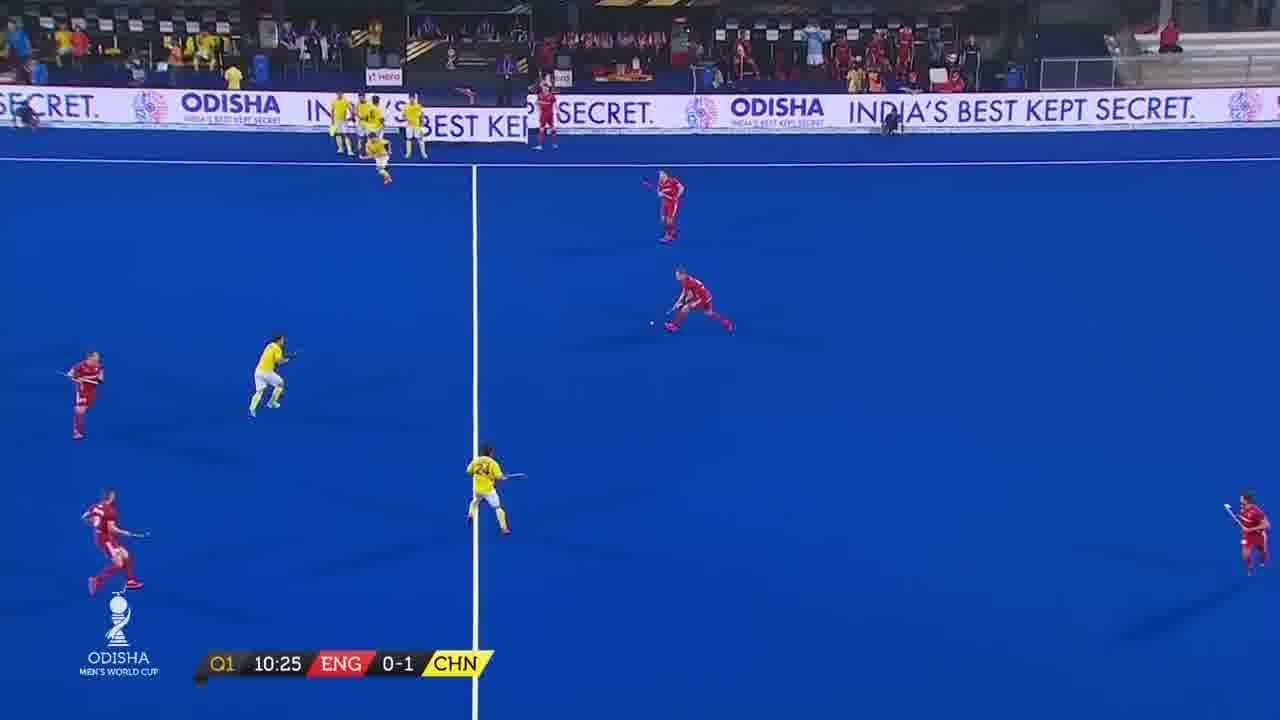ball: (644, 315, 660, 330)
